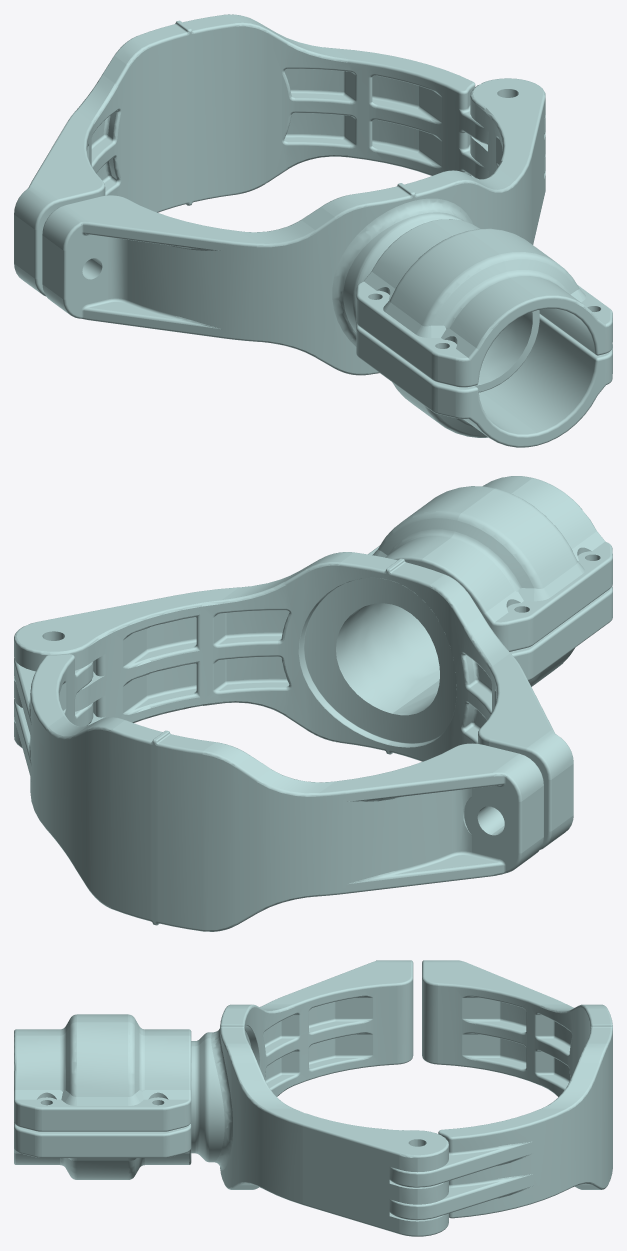
3 renders of one model, top to bottom at view 1: azimuth 30°, elevation 25°; view 2: azimuth 150°, elevation 25°; view 3: azimuth 270°, elevation 25°, orthographic. The views are drawn at different scales.
Bounding box in the file's own units: 216 × 74.3 × 269.
